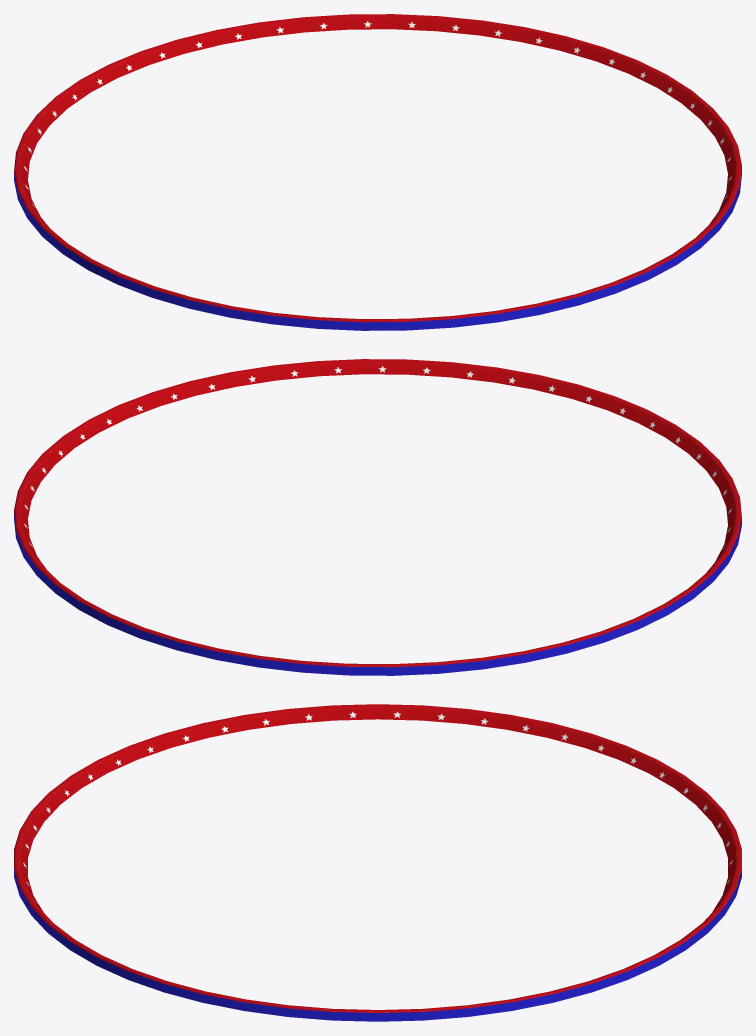
Rendered from ring.fbx.
3 renders of one model, top to bottom at view 1: azimuth 30°, elevation 25°; view 2: azimuth 150°, elevation 25°; view 3: azimuth 270°, elevation 25°, orthographic.
Visible parts, largest first — view 1: ring; view 2: ring; view 3: ring.
Boxes of the visible parts, x1,y1,x2,y2 form: ring: [14, 14, 741, 330]; ring: [14, 359, 741, 675]; ring: [14, 704, 741, 1021].
Size of the model in its own units: 33.35 by 0.5001 by 33.28.
Materials: 1 (1 with a texture image).
